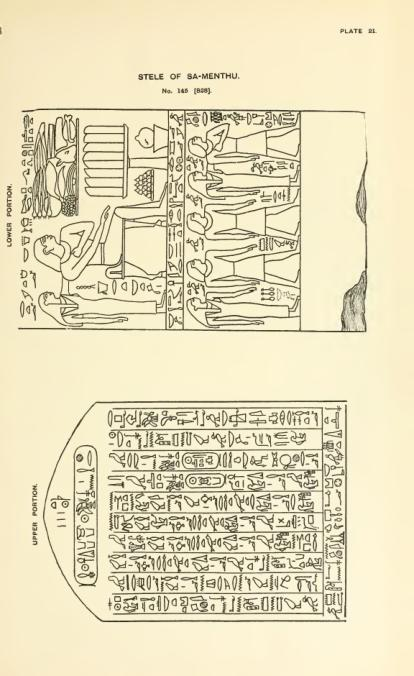circle: (71, 442, 101, 591), (184, 472, 229, 490), (181, 451, 222, 469)
